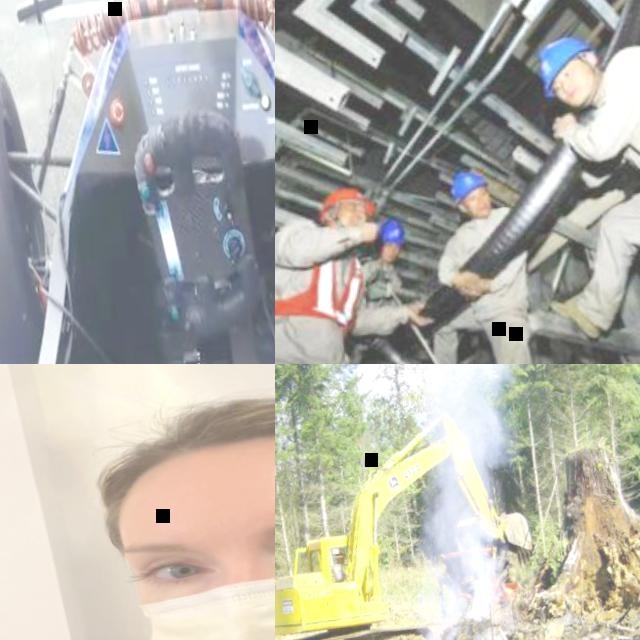Hardhat: (533, 33, 596, 89), (316, 184, 376, 220), (448, 167, 494, 205), (380, 219, 406, 247)
Mask: (143, 553, 275, 640)
NO-Hardhat: (77, 379, 275, 508)
NO-Mask: (561, 77, 598, 104), (330, 210, 363, 231), (473, 201, 492, 216), (378, 246, 394, 262)
NO-Safety Vest: (597, 32, 640, 200), (457, 210, 527, 294), (356, 261, 400, 301)
Person: (0, 370, 275, 640), (514, 7, 640, 349), (275, 171, 443, 364), (405, 162, 547, 364), (342, 218, 409, 308), (330, 551, 348, 581)
Safety Vest: (275, 246, 370, 336)
machinery: (275, 396, 549, 640)
vehicle: (0, 0, 275, 364)
